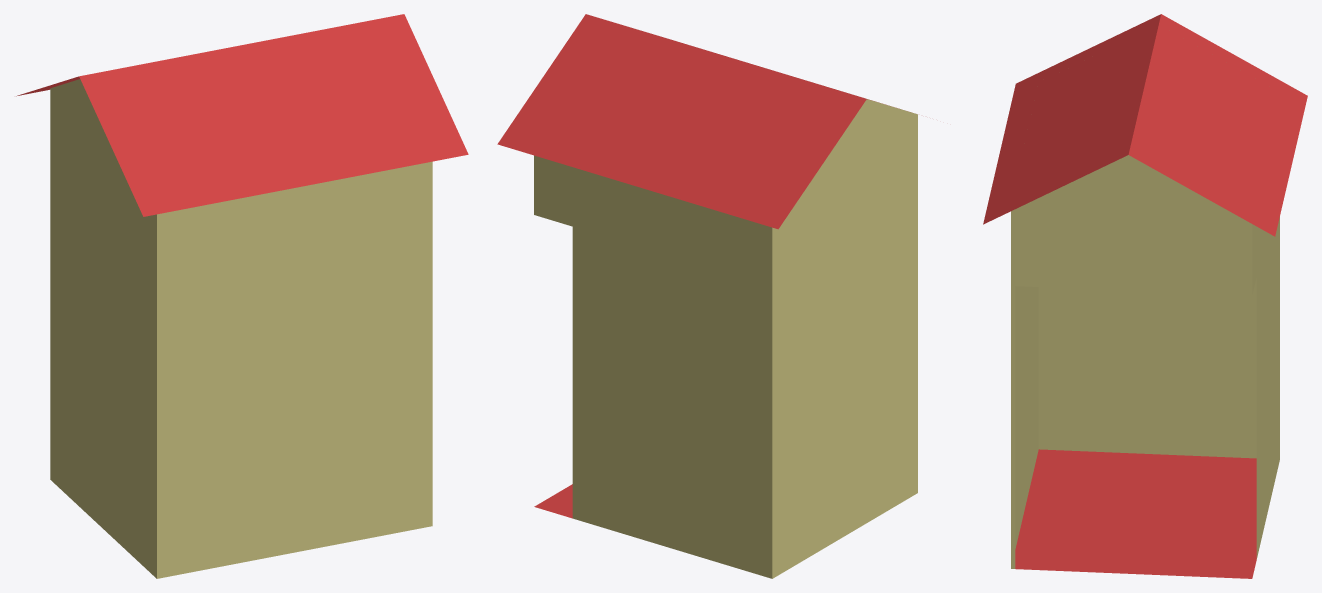
The picture shows the model from 3 angles, left to right: view 1: azimuth 30°, elevation 25°; view 2: azimuth 150°, elevation 25°; view 3: azimuth 270°, elevation 25°; orthographic projection. The views are drawn at different scales.
Visible parts, largest first — view 1: group_5, group_3, group_4; view 2: group_5, group_3, group_4, group_6; view 3: group_5, group_3, group_6, group_4.
Boxes of the visible parts, left/top/right/bottom form: group_5: left=50, top=79, right=432, bottom=578; group_3: left=16, top=15, right=468, bottom=216; group_4: left=26, top=14, right=413, bottom=216; group_5: left=534, top=99, right=917, bottom=578; group_3: left=497, top=14, right=874, bottom=228; group_4: left=703, top=92, right=896, bottom=228; group_6: left=534, top=484, right=572, bottom=518; group_5: left=1011, top=155, right=1279, bottom=568; group_3: left=983, top=14, right=1307, bottom=236; group_6: left=1015, top=449, right=1256, bottom=578; group_4: left=1016, top=14, right=1307, bottom=180.
Bounding box in the file's own units: 10.66 × 9.56 × 13.95.
